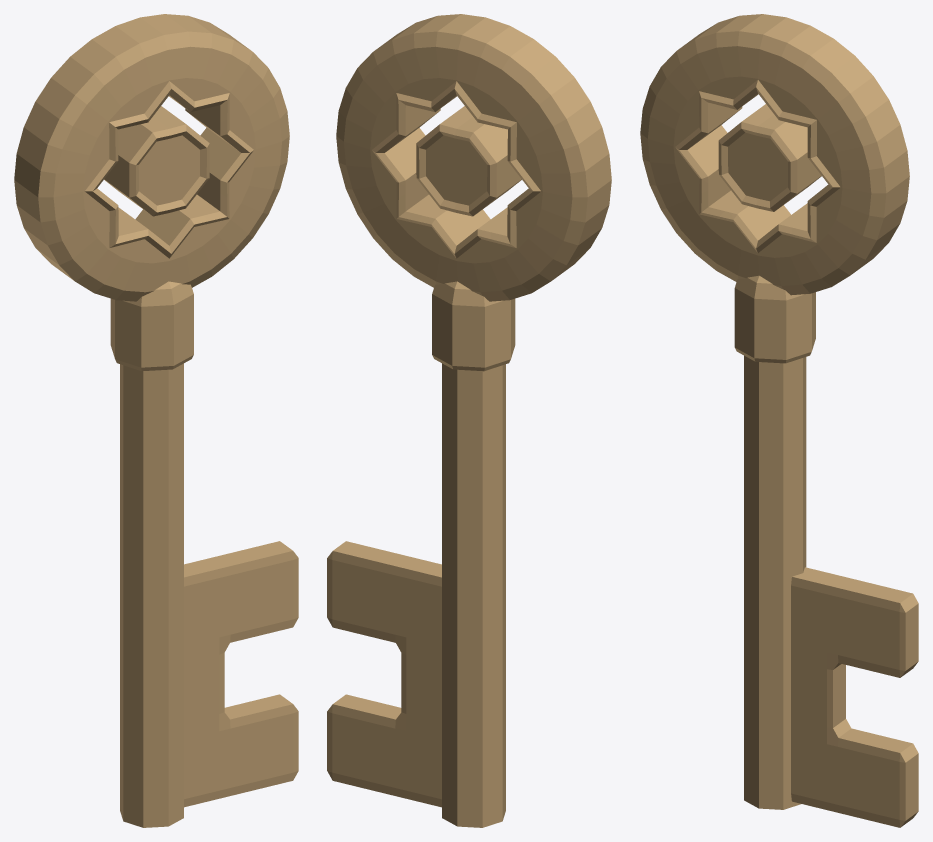
The model's file is theme02_key06.fbx.
3 views of the same model, side by side, from view 1: azimuth 30°, elevation 25°; view 2: azimuth 150°, elevation 25°; view 3: azimuth 330°, elevation 25° (orthographic). The views are drawn at different scales.
Visible parts, largest first — view 1: key06head.002; view 2: key06head.002; view 3: key06head.002.
Boxes of the visible parts, box(x1,y1,x2,y2) form: key06head.002: box(14, 14, 298, 827); key06head.002: box(327, 14, 611, 827); key06head.002: box(640, 14, 918, 827).
Bounding box in the file's own units: 10.64 × 30.13 × 2.98.
